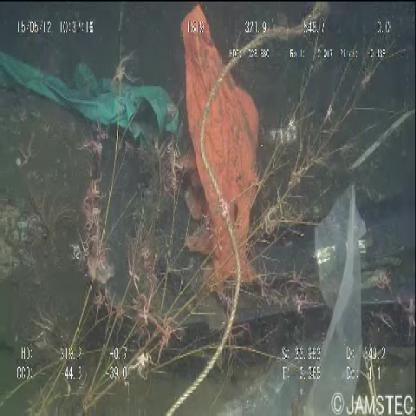Rác: (223, 185, 366, 415)
